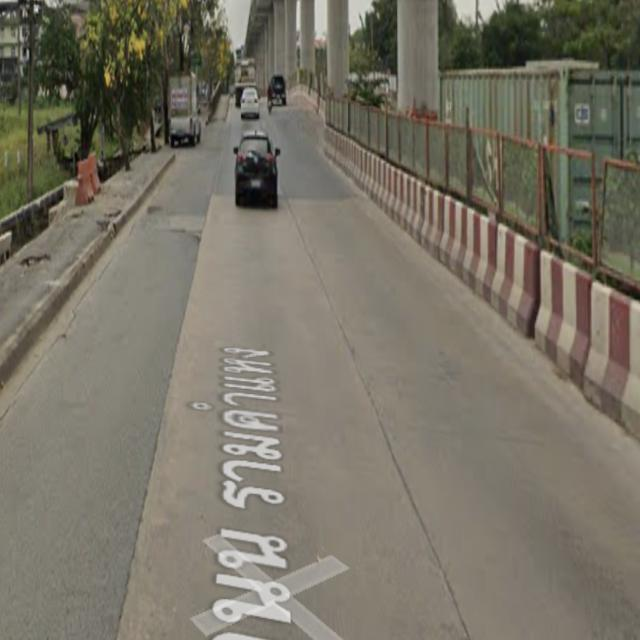fallen_object: (511, 233, 640, 429), (387, 147, 517, 321), (312, 115, 397, 228), (66, 140, 112, 233)
